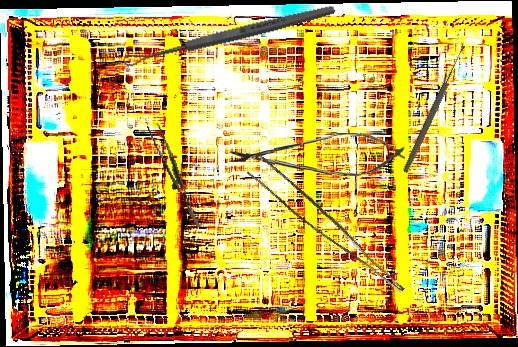Micro Scissor: (229, 130, 406, 181)
Surgical Spoon: (121, 2, 337, 69), (401, 44, 468, 174)
Tissue Forceps: (242, 154, 419, 294), (147, 119, 200, 234)
